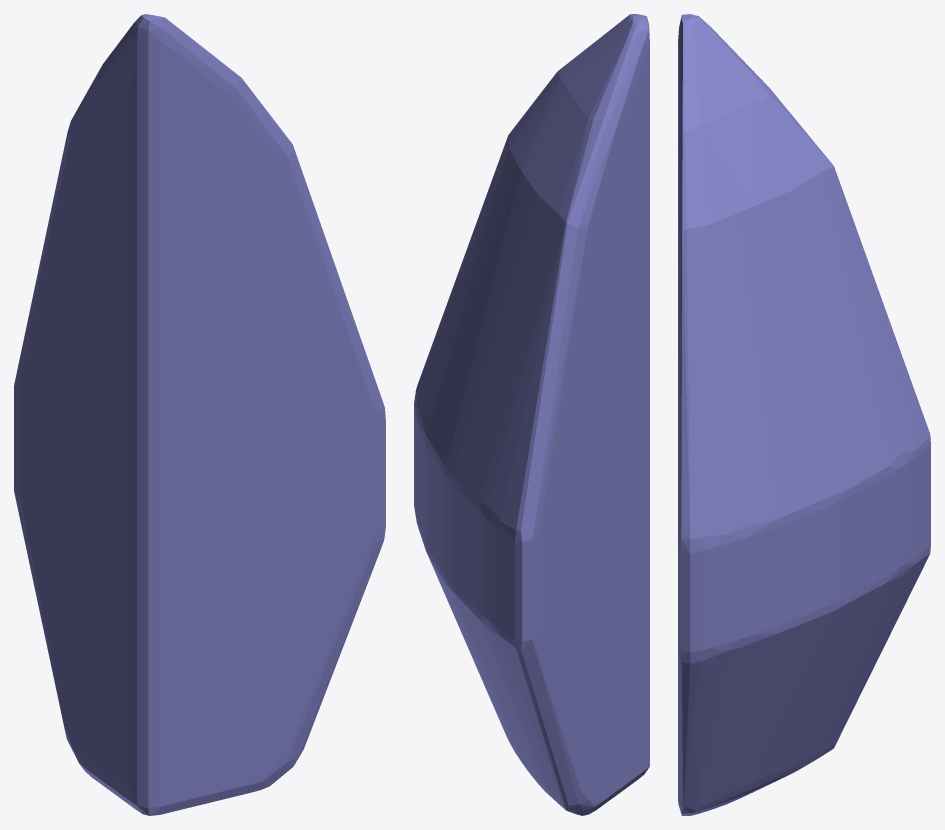
File: right_hip_roll_link_part_12.obj
3 renders of one model, left to right at view 1: azimuth 30°, elevation 25°; view 2: azimuth 150°, elevation 25°; view 3: azimuth 270°, elevation 25°, orthographic. The views are drawn at different scales.
Size of the model in its own units: 0.0242 by 0.0747 by 0.0228.
